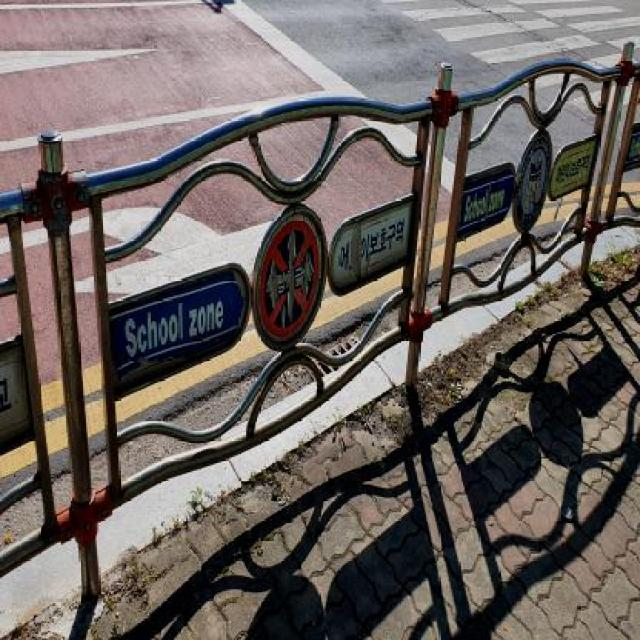fence: (0, 51, 473, 550), (406, 9, 640, 376)
